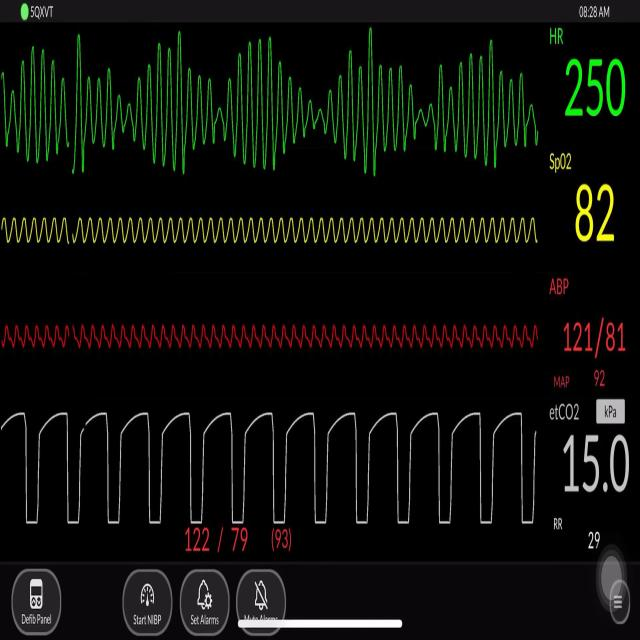danger: (5, 31, 126, 171), (323, 18, 419, 166), (435, 34, 537, 171), (222, 27, 310, 180), (135, 30, 215, 176)
